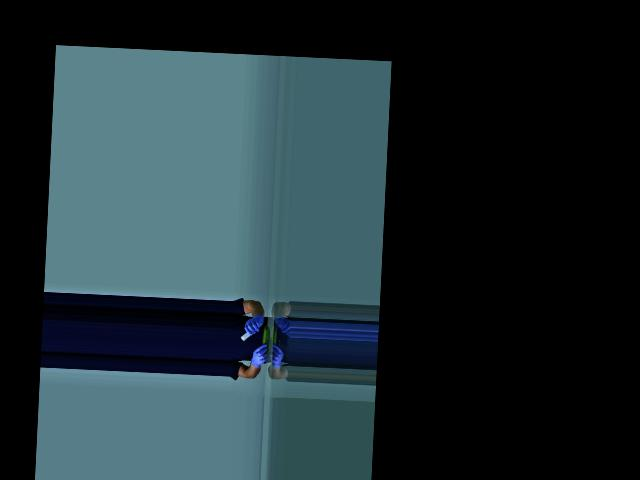cucumber: (262, 324, 270, 352)
